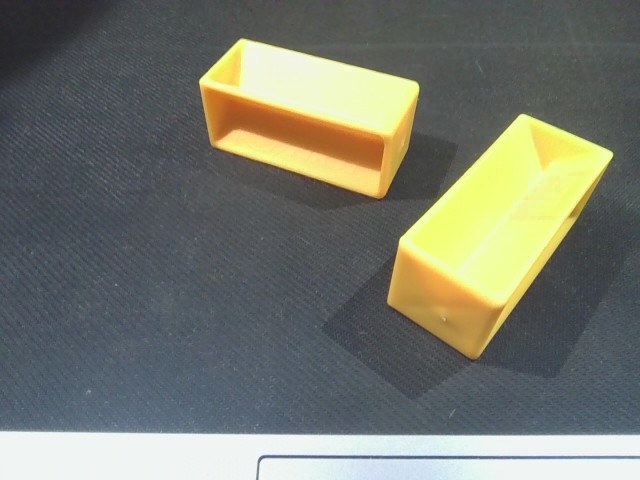YellowSample: (382, 114, 626, 353), (193, 36, 422, 205)
